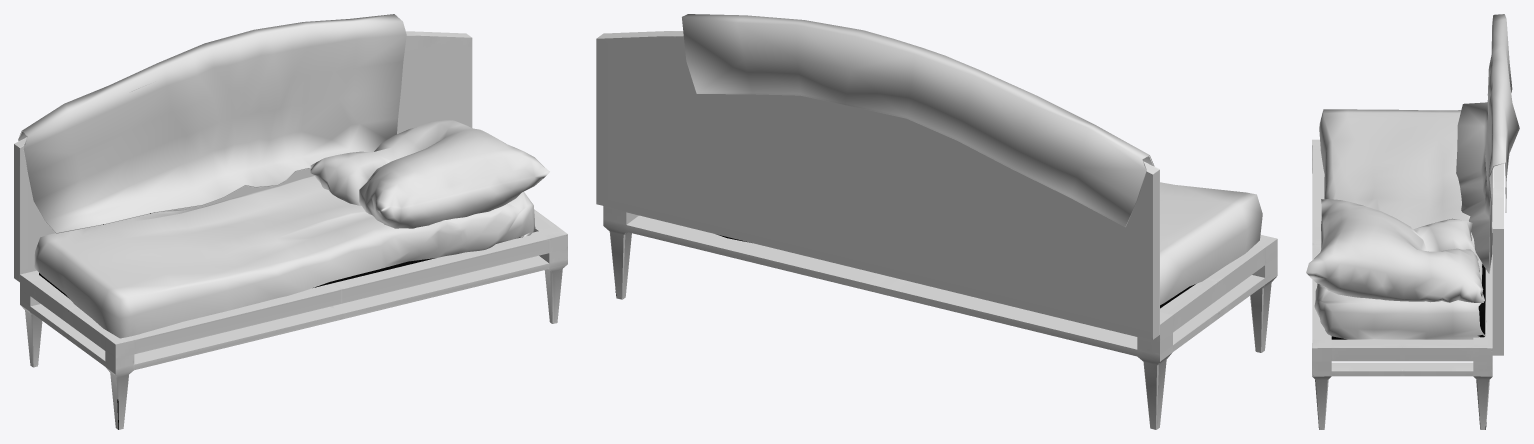
The model's file is a9acd8c6-7c9f-4d2d-9125-ab73b5dfa4ae.glb.
The picture shows the model from 3 angles, left to right: view 1: azimuth 30°, elevation 25°; view 2: azimuth 150°, elevation 25°; view 3: azimuth 270°, elevation 25°; orthographic projection. The views are drawn at different scales.
Visible parts, largest first — view 1: vintage_day_bed; view 2: vintage_day_bed; view 3: vintage_day_bed.
Boxes of the visible parts, bbox=[...] form: vintage_day_bed: bbox=[14, 14, 567, 429]; vintage_day_bed: bbox=[596, 14, 1277, 429]; vintage_day_bed: bbox=[1306, 14, 1519, 429].
Size of the model in its own units: 1.97 by 1.13 by 0.8547.
1 material, 1 textured.
